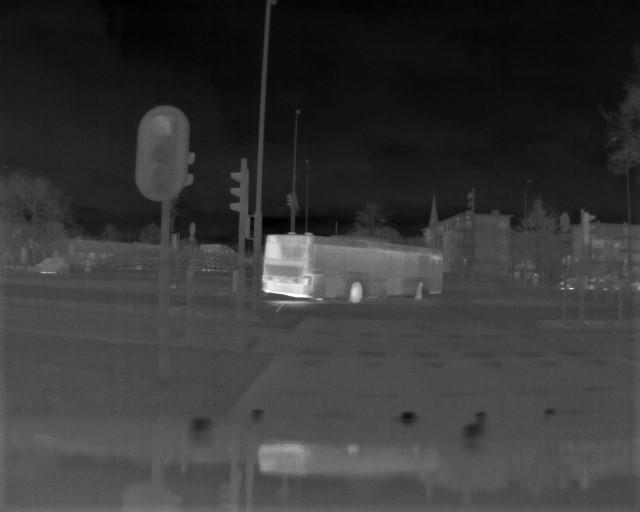car: (264, 232, 446, 304)
